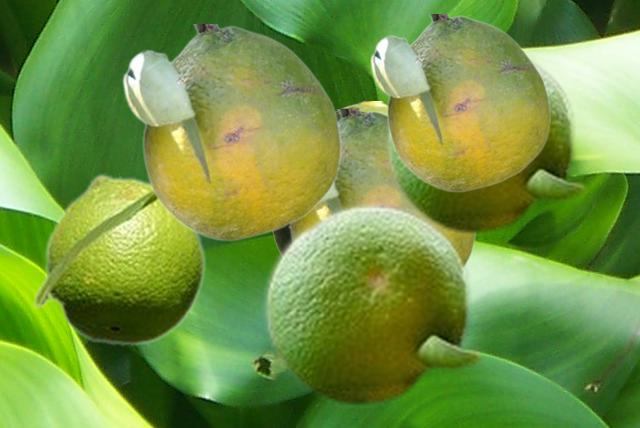dalandan: (121, 24, 341, 240), (261, 199, 485, 406), (383, 55, 588, 234), (369, 14, 550, 191), (31, 173, 206, 346), (288, 109, 476, 263), (272, 101, 385, 249)
